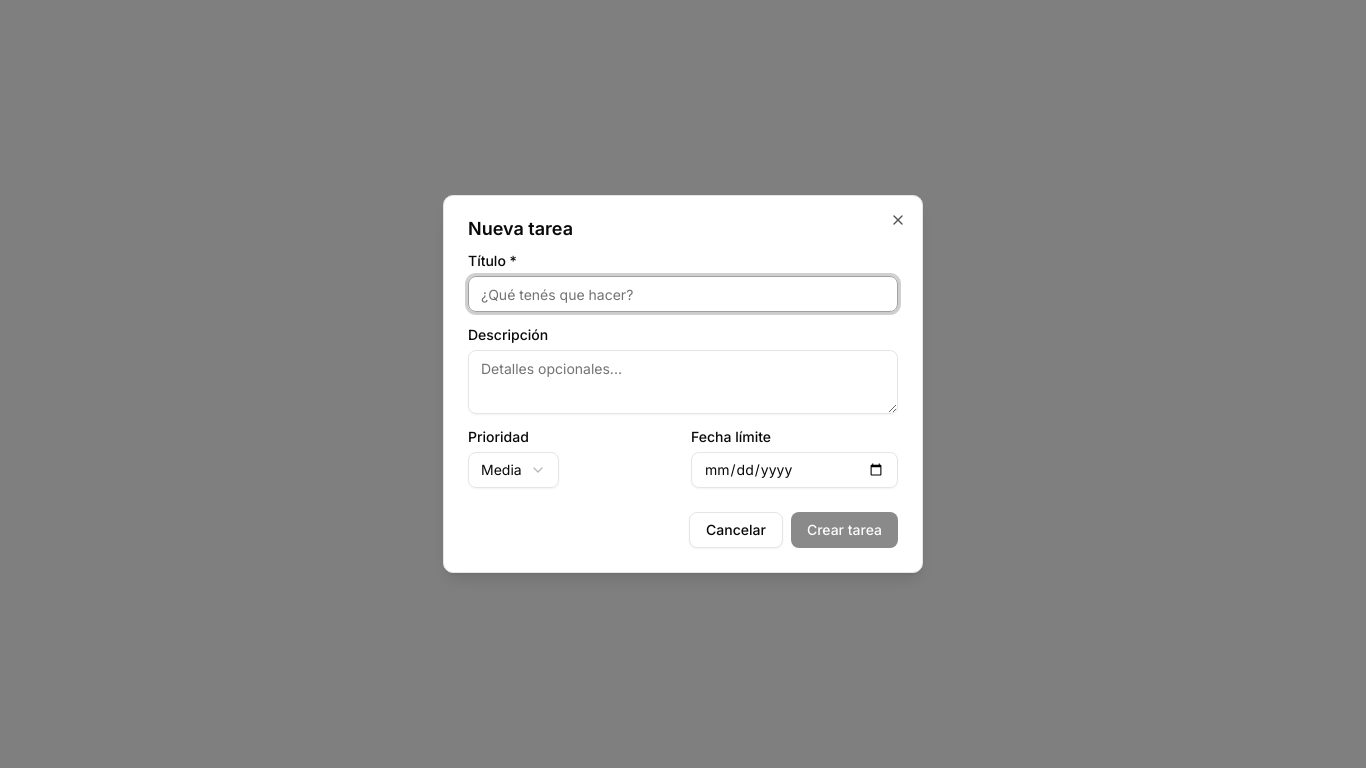
Test: TodoForm — envío › muestra error cuando la API falla
Type "Tarea con error" into the field labelled "Título *" at (683, 294), box x1=468 y1=276 x2=898 y2=312
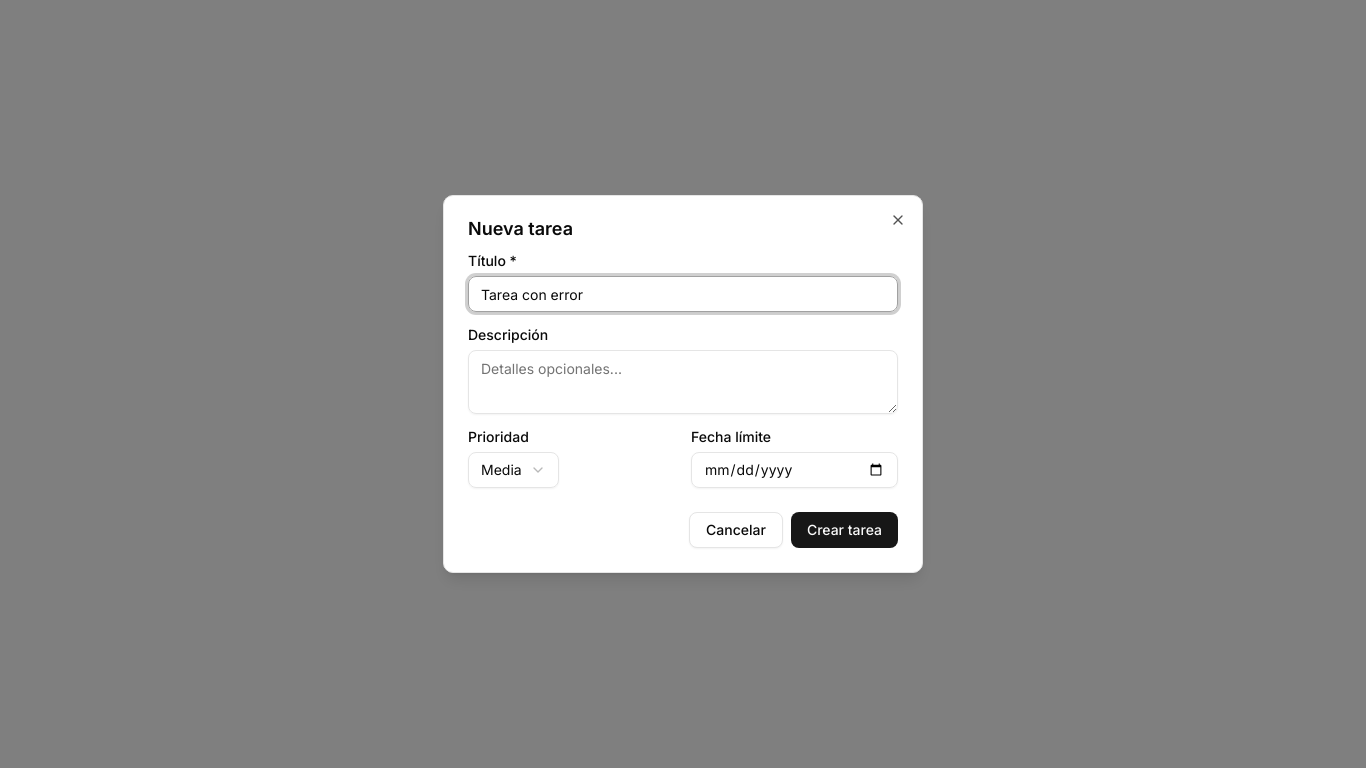
Click the button "Crear tarea" at (844, 530), box x1=791 y1=512 x2=898 y2=548
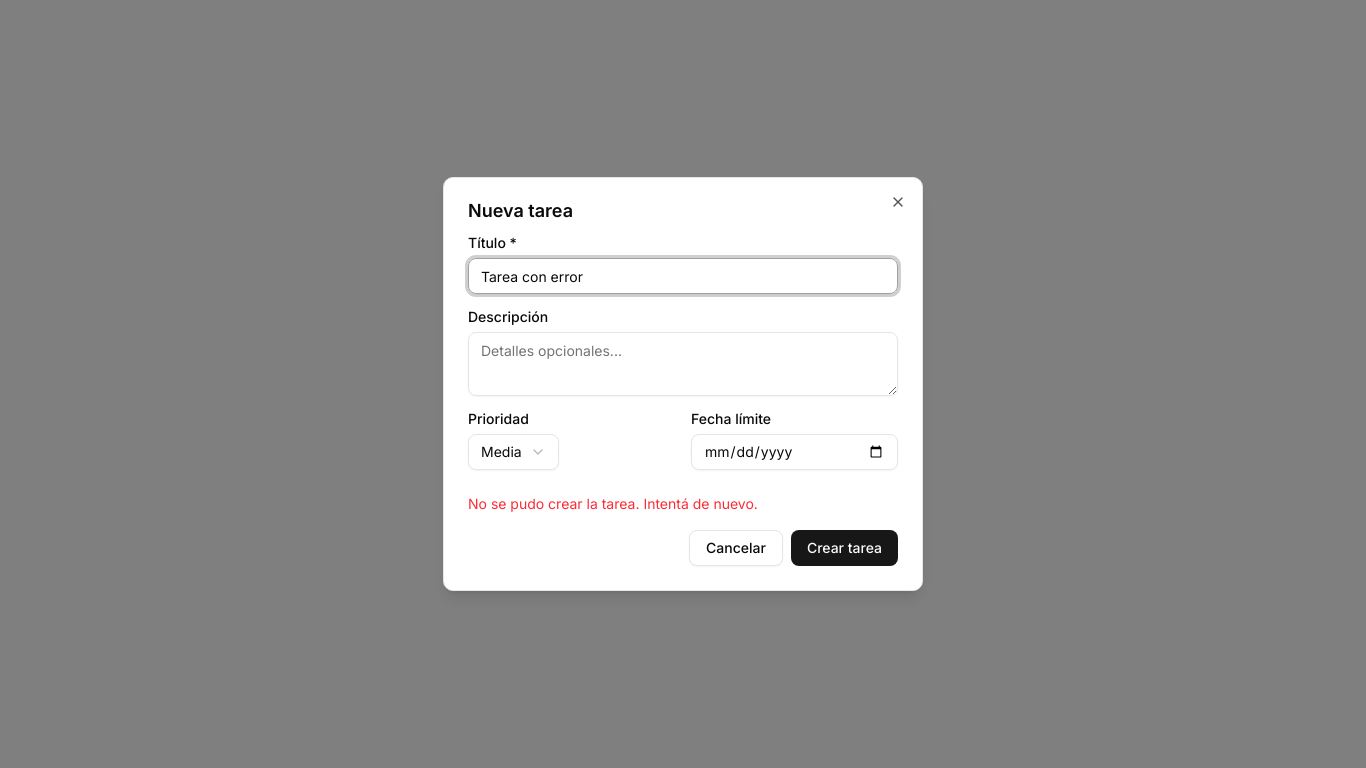
Expected: the text "No se pudo crear la tarea. Intentá de nuevo." is shown, x1=468 y1=495 x2=758 y2=512
